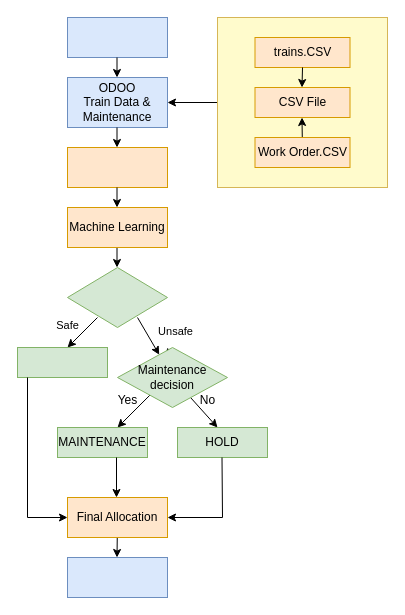
Some shapes in this 405 by 615 pixel diagram are drawn without their labels. The centre of each missing label's shape, as x and y in pixels:
"Apply Rules" belongs at point (117, 297).
"Backend Processing" belongs at point (117, 167).
"Dashboard Display" belongs at point (117, 577).
"INDUCT" belongs at point (62, 362).
"Refresh / Trigger" belongs at point (117, 37).
